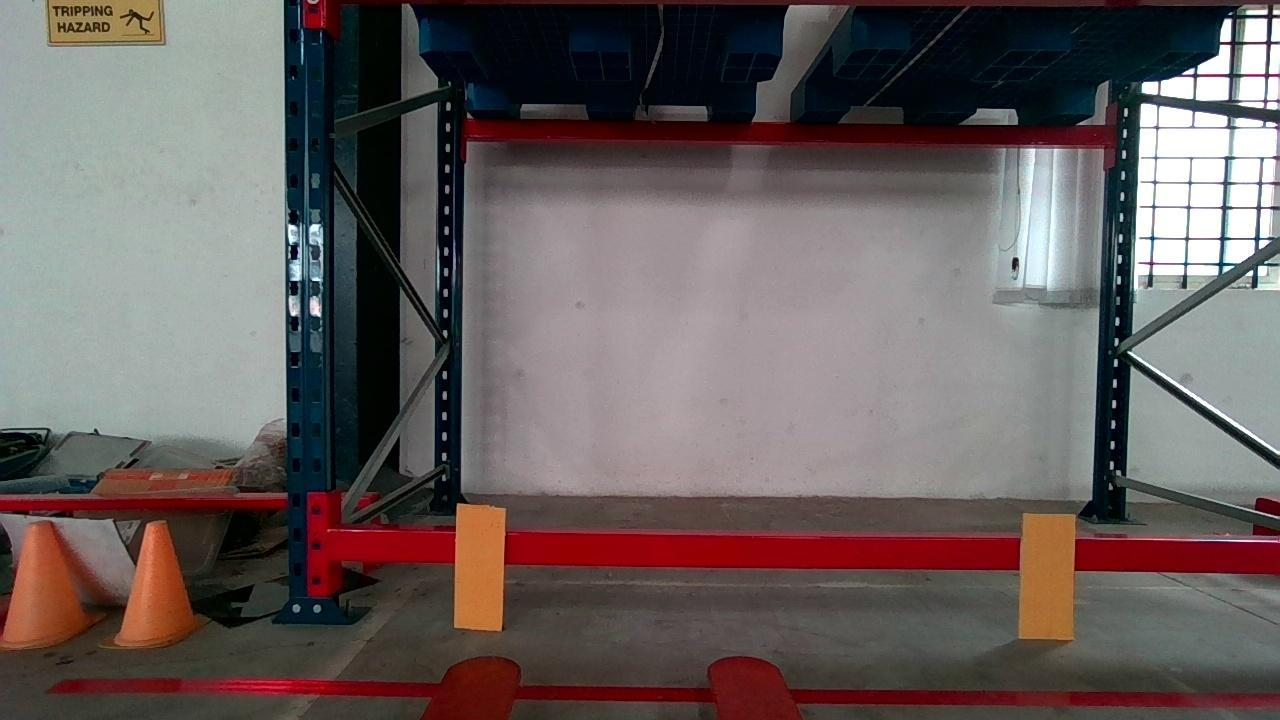h_rack: (327, 528, 1280, 574)
orange_strip: (1021, 514, 1077, 636), (452, 502, 505, 626)
red_line: (52, 674, 1279, 708)
